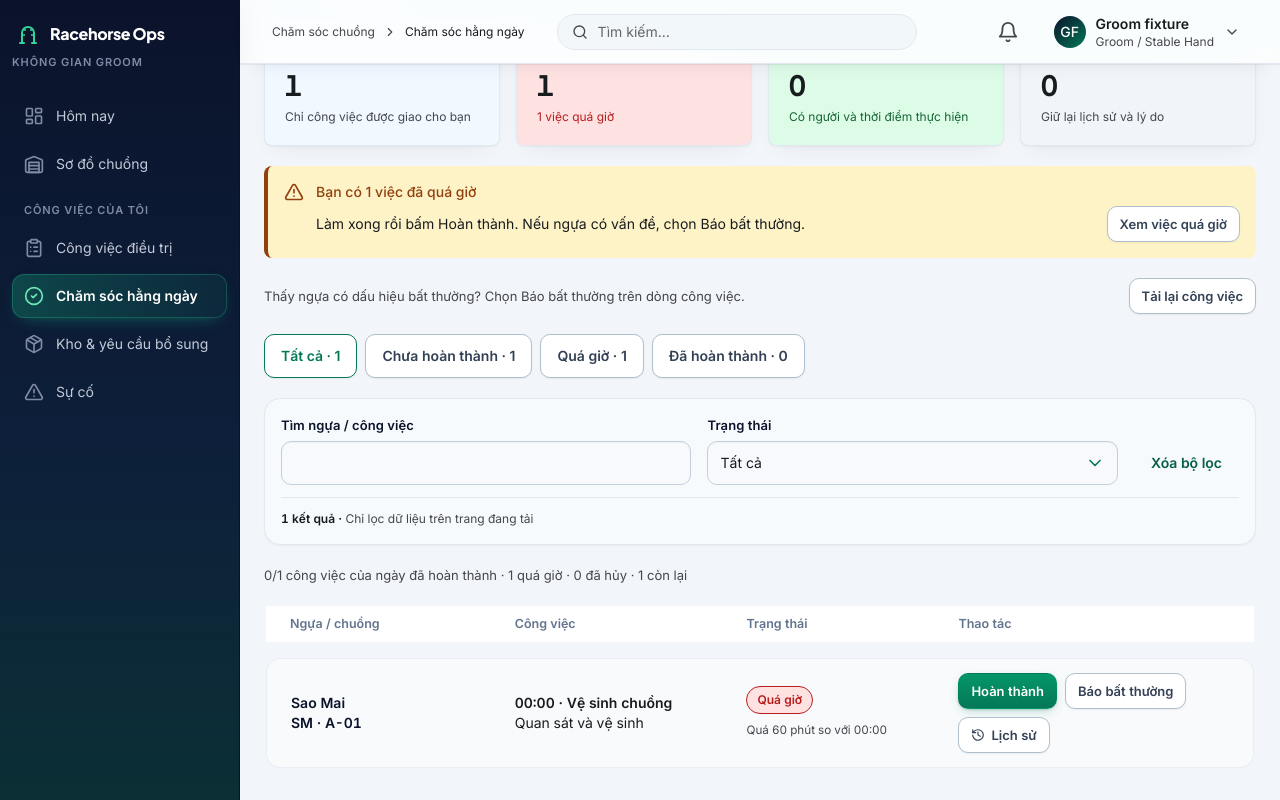
Scenario: Flow 4 API-only UI › keeps Groom readonly for assignment changes and renders server history
(page scrolled)
Expected: the text "Sao Mai" is shown, [291,694,345,711]
Expected: the button "Đổi Groom" is not shown
Click the button "Lịch sử". click: [1004, 735]
box: [958,717,1050,753]
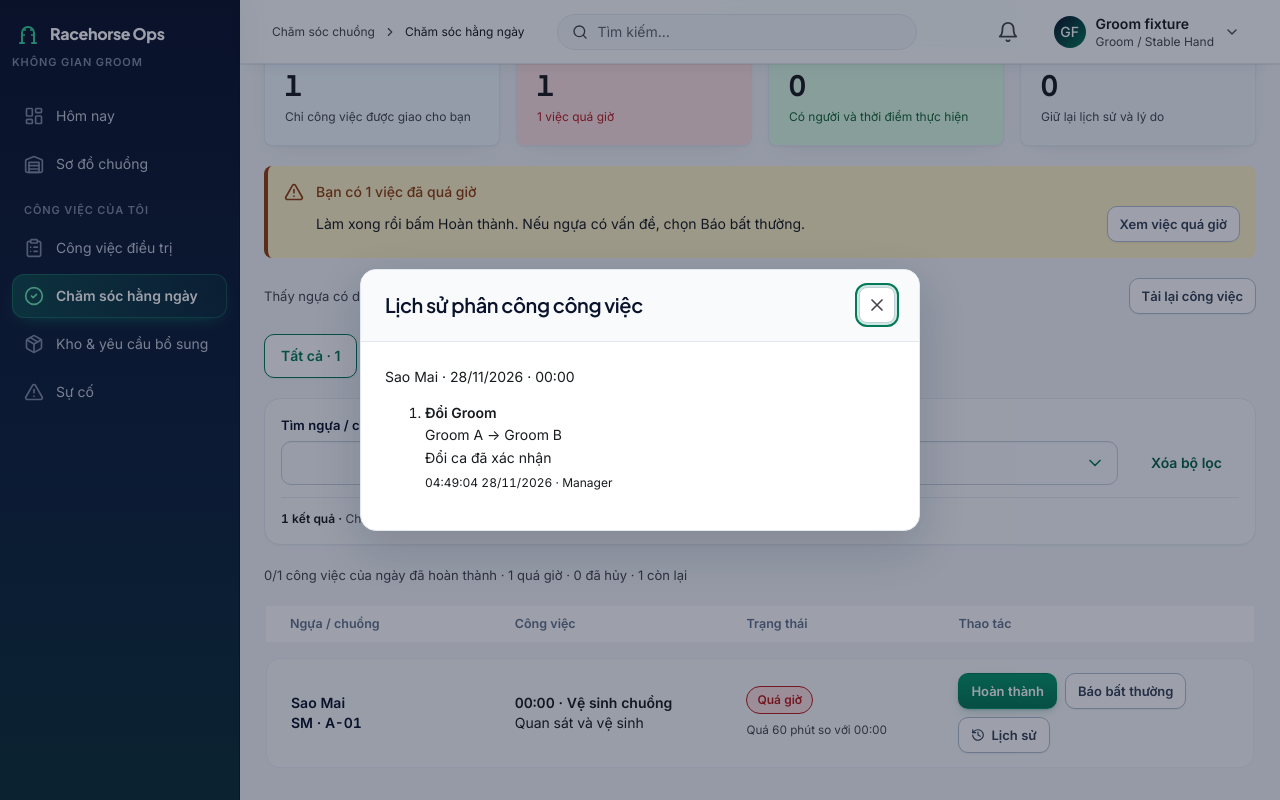
Result: the text "Groom A → Groom B" is shown at [425,426,562,443]
Result: the text "Đổi ca đã xác nhận" is shown at [425,449,551,466]
